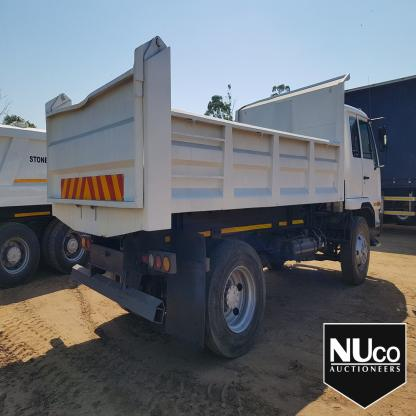dump_truck: (40, 21, 396, 367)
